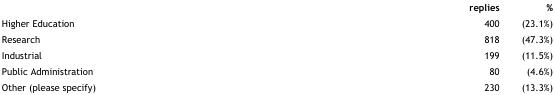table: (0, 0, 551, 92)
table column: (0, 0, 281, 92), (281, 0, 509, 92), (509, 0, 551, 92)
table column header: (0, 0, 551, 14)
table row: (0, 14, 551, 30), (0, 30, 551, 46), (0, 46, 551, 62), (0, 62, 551, 78), (0, 0, 551, 14), (0, 78, 551, 92)
